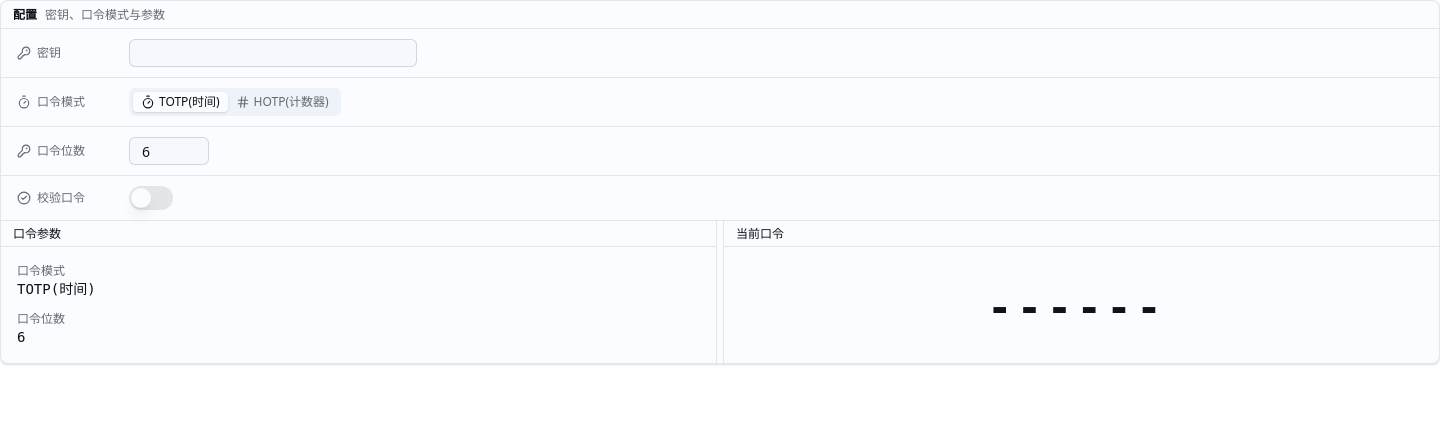
Test: OtpGenerator › 输入合法密钥后生成 6 位 TOTP 口令
In the field named "Base32 密钥": {"x": 273, "y": 53} [129,39,417,67], type "GEZDGNBVGY3TQOJQGEZDGNBVGY3TQOJQ"
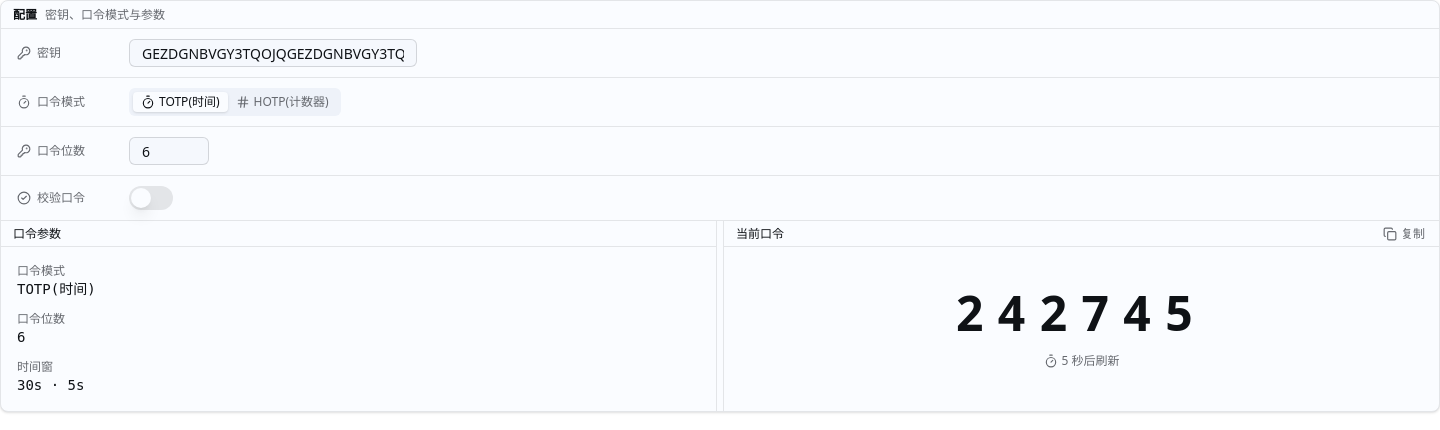
expect the text with test id "otp-code" reads "242745": met, box [956,280,1207,345]
